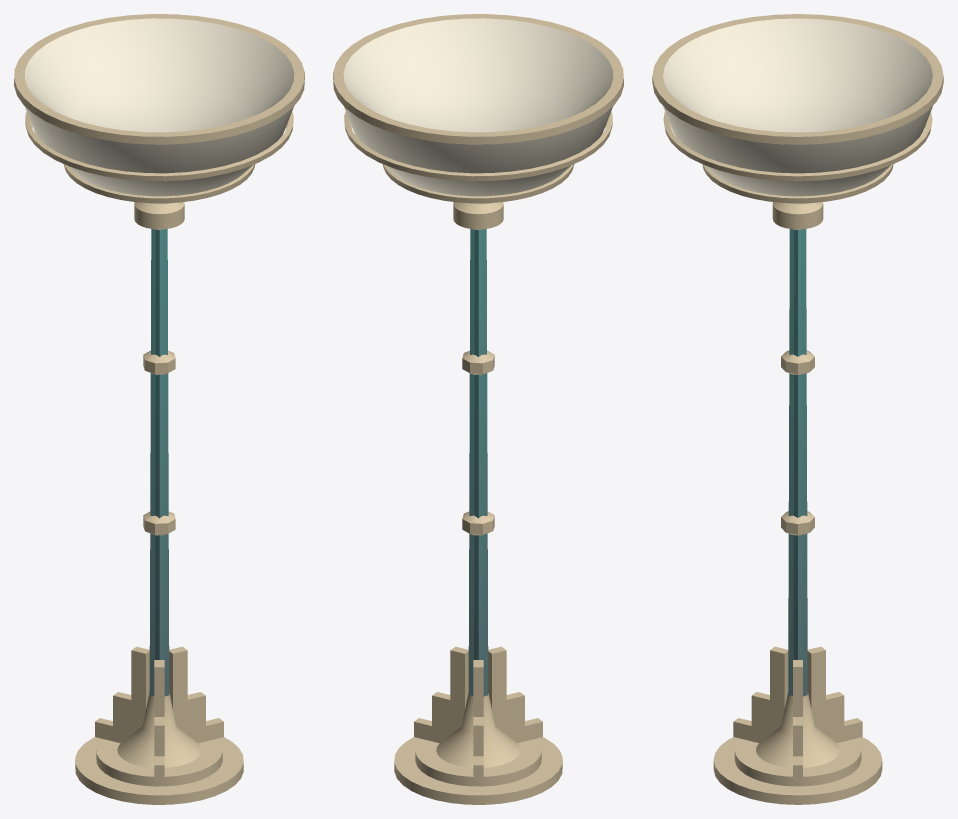
The model's file is KC32__AD_Int_Lamp_Floor.glb.
3 views of the same model, side by side, from view 1: azimuth 30°, elevation 25°; view 2: azimuth 150°, elevation 25°; view 3: azimuth 270°, elevation 25° (orthographic).
Parts seen in each view (by area): view 1: KC32_LUMIERE__AD_Int_Lamp_Floor, KC32_BRONZE__AD_Int_Lamp_Floor, KC32_CORPS__AD_Int_Lamp_Floor; view 2: KC32_LUMIERE__AD_Int_Lamp_Floor, KC32_BRONZE__AD_Int_Lamp_Floor, KC32_CORPS__AD_Int_Lamp_Floor; view 3: KC32_LUMIERE__AD_Int_Lamp_Floor, KC32_BRONZE__AD_Int_Lamp_Floor, KC32_CORPS__AD_Int_Lamp_Floor.
Part boxes in pixels (x1,y1,x2,y2): KC32_LUMIERE__AD_Int_Lamp_Floor: [24, 18, 294, 204]; KC32_BRONZE__AD_Int_Lamp_Floor: [14, 14, 304, 804]; KC32_CORPS__AD_Int_Lamp_Floor: [149, 229, 169, 695]; KC32_LUMIERE__AD_Int_Lamp_Floor: [343, 18, 613, 204]; KC32_BRONZE__AD_Int_Lamp_Floor: [333, 14, 623, 804]; KC32_CORPS__AD_Int_Lamp_Floor: [468, 229, 488, 695]; KC32_LUMIERE__AD_Int_Lamp_Floor: [663, 18, 932, 204]; KC32_BRONZE__AD_Int_Lamp_Floor: [652, 14, 943, 804]; KC32_CORPS__AD_Int_Lamp_Floor: [788, 229, 807, 695].
Size of the model in its own units: 0.69 by 1.82 by 0.69.
